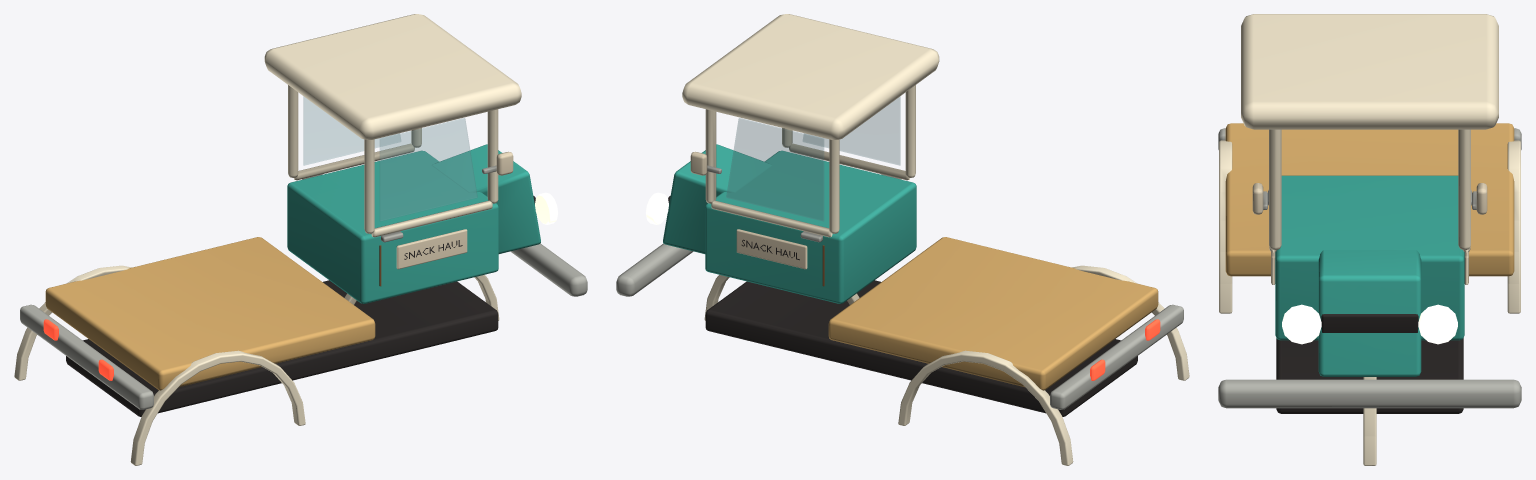
File: truck_tuktuk.glb
3 renders of one model, left to right at view 1: azimuth 30°, elevation 25°; view 2: azimuth 150°, elevation 25°; view 3: azimuth 270°, elevation 25°, orthographic. The views are drawn at different scales.
Visible parts, largest first — view 1: ladder frame, side window, round lamp; view 2: ladder frame, side window, round lamp; view 3: ladder frame, round lamp.
Boxes of the visible parts, <box> form: ladder frame: <box>14,14,587,465</box>; side window: <box>303,96,477,221</box>; round lamp: <box>535,192,557,224</box>; ladder frame: <box>616,14,1189,465</box>; side window: <box>726,96,900,221</box>; round lamp: <box>646,192,668,224</box>; ladder frame: <box>1218,14,1521,465</box>; round lamp: <box>1282,304,1457,344</box>.
Size of the model in its own units: 3.61 by 2.12 by 1.68.
